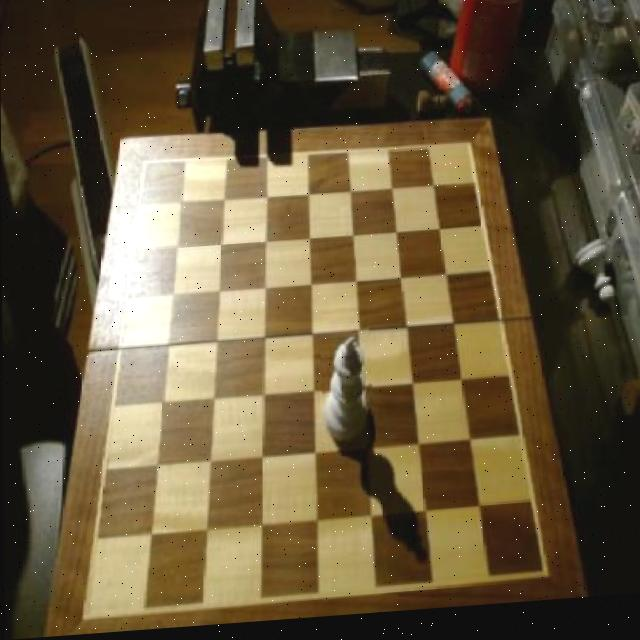white-bishop: (320, 335, 373, 457)
